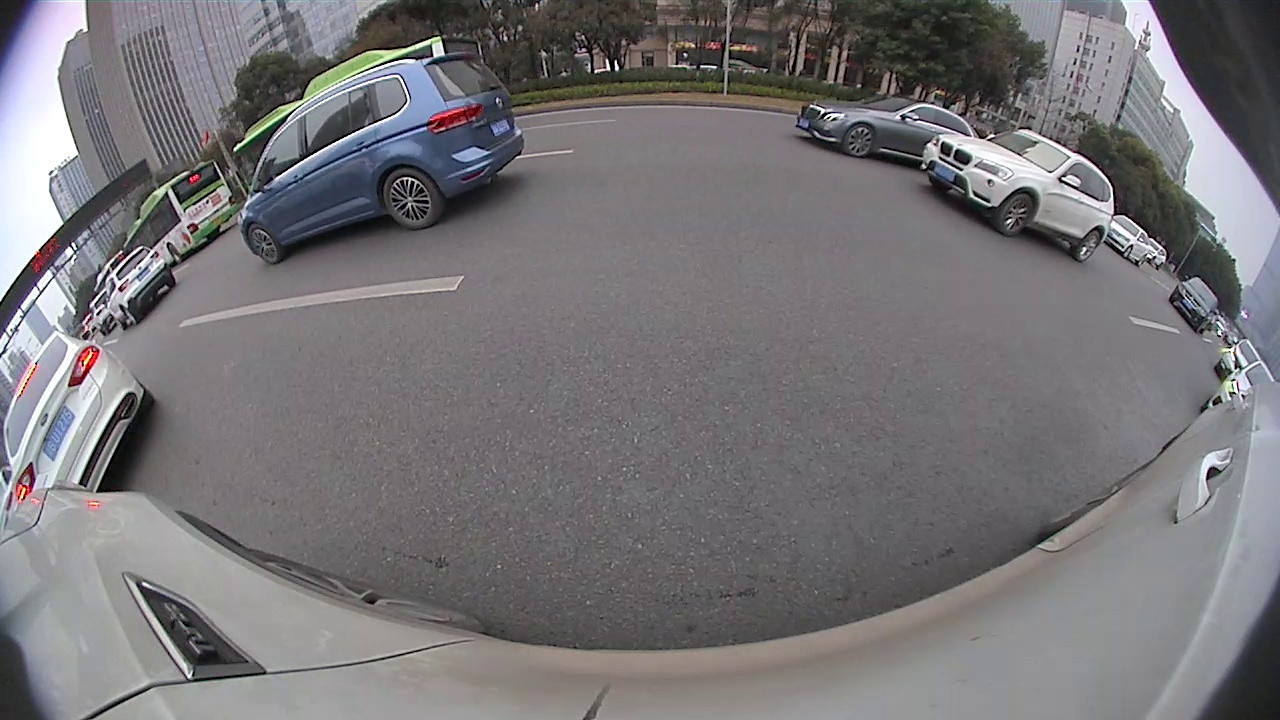bus: (226, 27, 491, 202)
car: (235, 47, 530, 265), (919, 125, 1116, 265), (2, 328, 159, 494), (795, 91, 978, 168), (102, 240, 177, 328), (1168, 276, 1218, 333)
front: (998, 190, 1034, 237), (245, 222, 281, 266), (843, 122, 875, 158)
rear: (383, 166, 442, 230), (1074, 228, 1103, 263)
